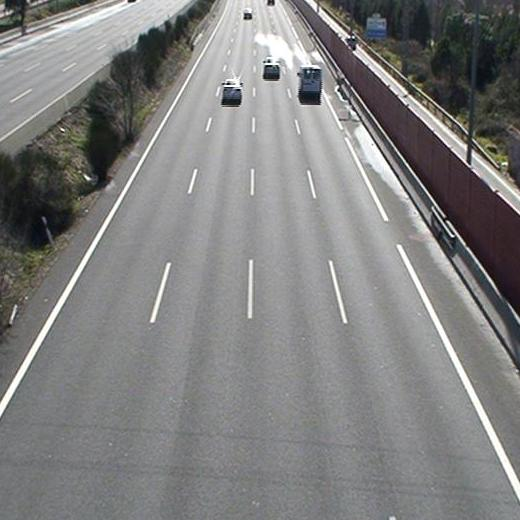car: (221, 77, 243, 105), (262, 56, 280, 80)
van: (297, 64, 323, 99)
